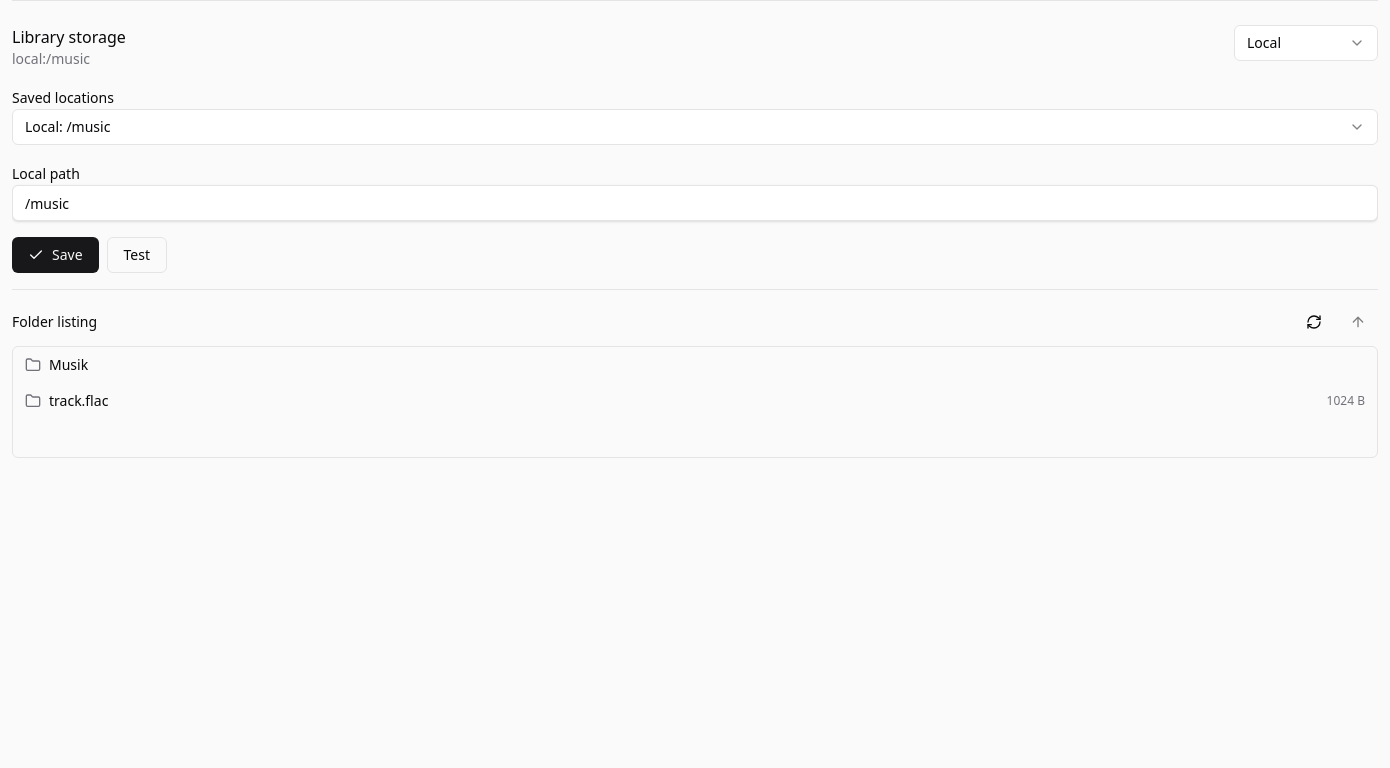
Test case: StorageSettingsSection › shows full-scan toast when storage kind changes
The width and height of the screenshot is (1390, 768).
Expected: the heading "Library storage" is shown, [12,25,126,49]
Click the button "Save".
click(55, 255)  # box [12,237,99,273]
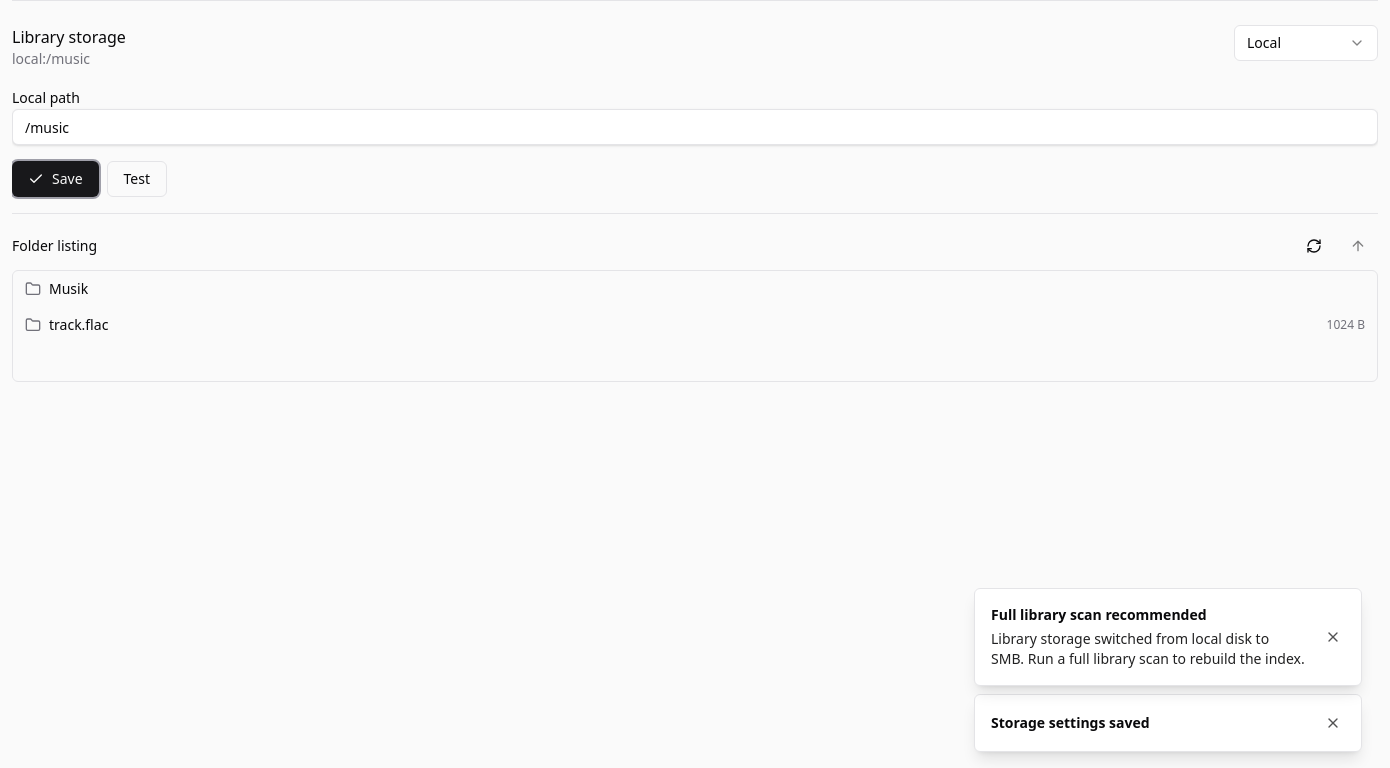
Now the text "Full library scan recommended" is shown, box [991,605,1207,624]
Now the text "switched from local disk to SMB" is shown, box [991,629,1305,668]
